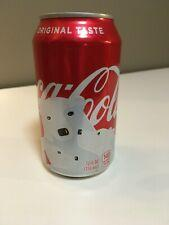metal: (33, 12, 121, 178)
